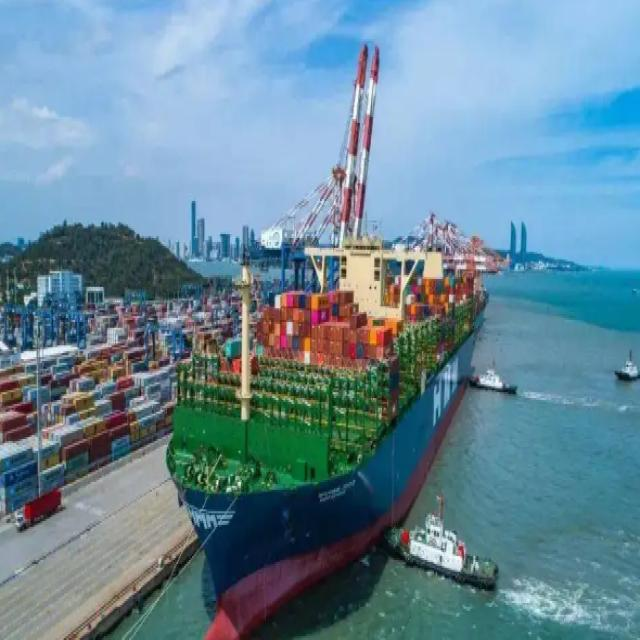cargoship: (169, 186, 496, 623)
houseboat: (384, 496, 498, 594), (472, 352, 514, 406), (612, 355, 640, 381)
